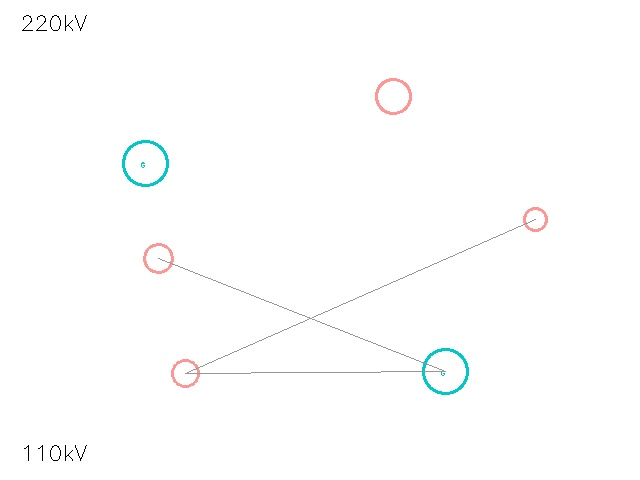fuse: (359, 62, 427, 130), (159, 347, 211, 399)
generator: (423, 349, 467, 393), (123, 141, 167, 185)
load_break_switch: (129, 229, 187, 287)
reactor: (513, 197, 557, 241)
